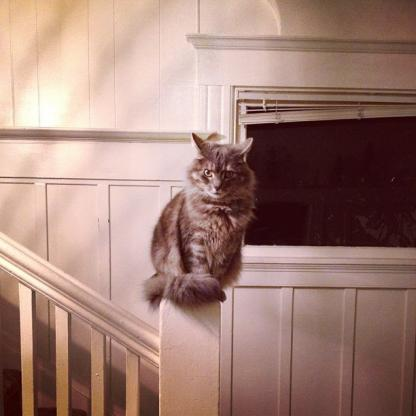Target: (139, 136, 255, 320)
